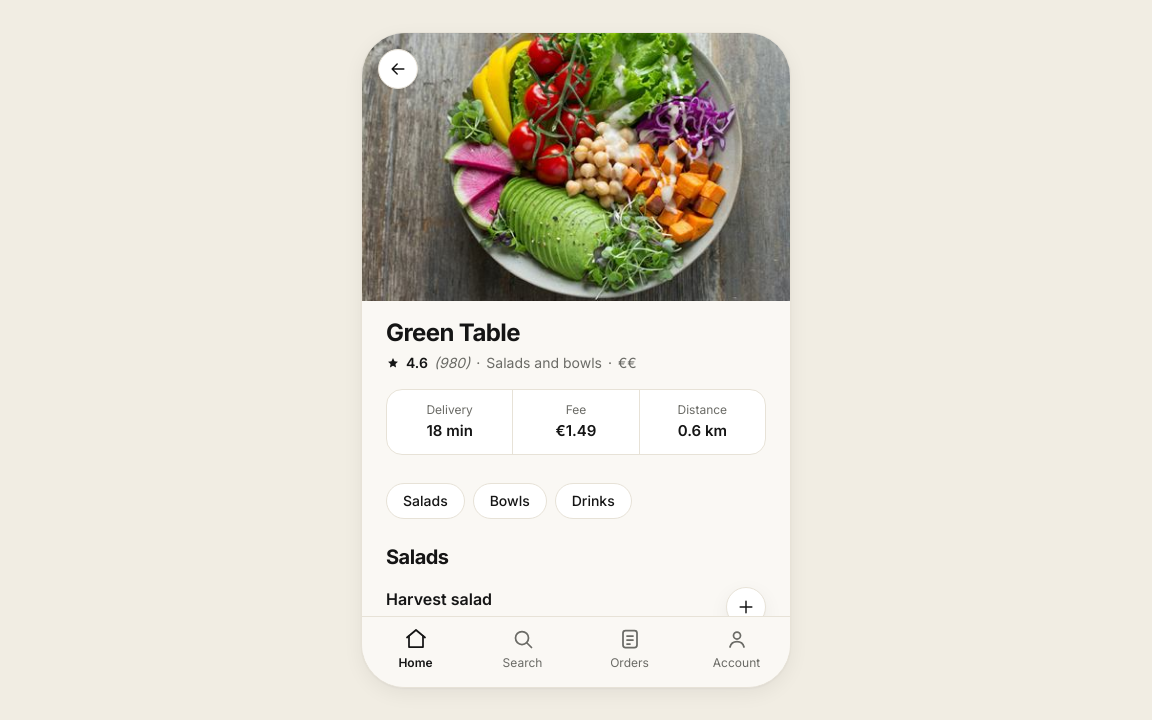
Test: Restaurant page › keeps the current cart when the user declines
The image size is (1152, 720).
Earlier steps of the test are not shown.
Expected: the heading "Green Table" is shown, [386, 318, 520, 346]
Click the button named "Add Harvest salad" at (746, 607), box [726, 587, 766, 627]
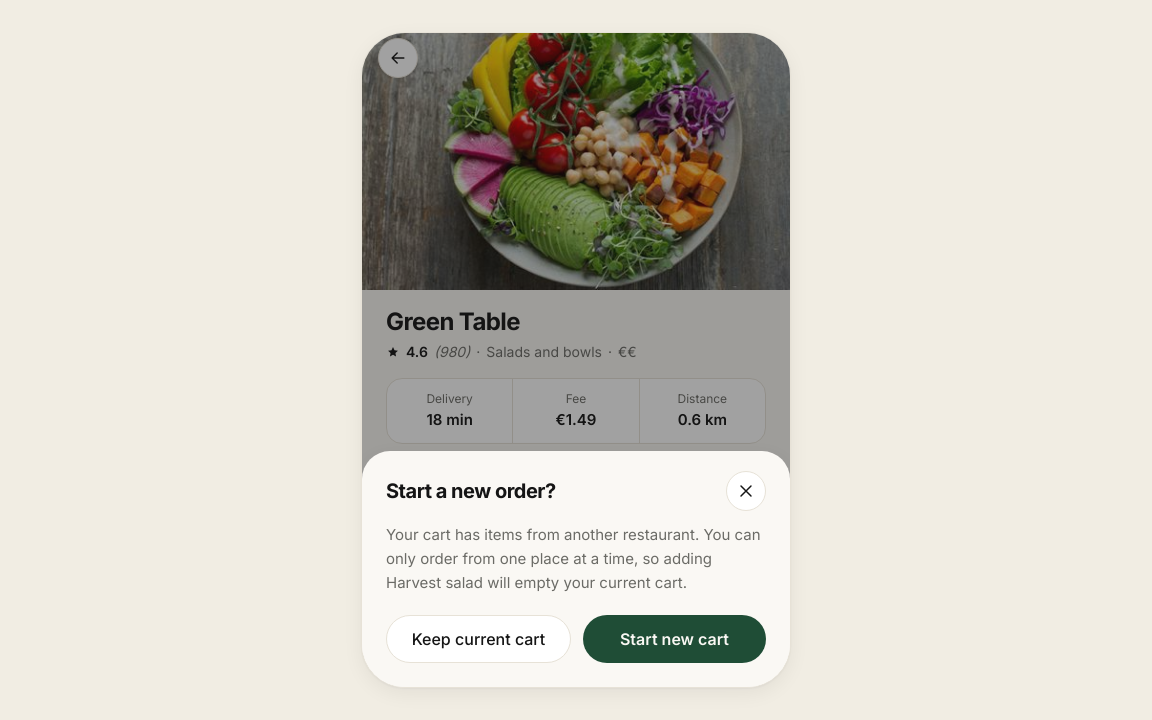
Click the button "Keep current cart" at (478, 639), box [386, 615, 571, 663]
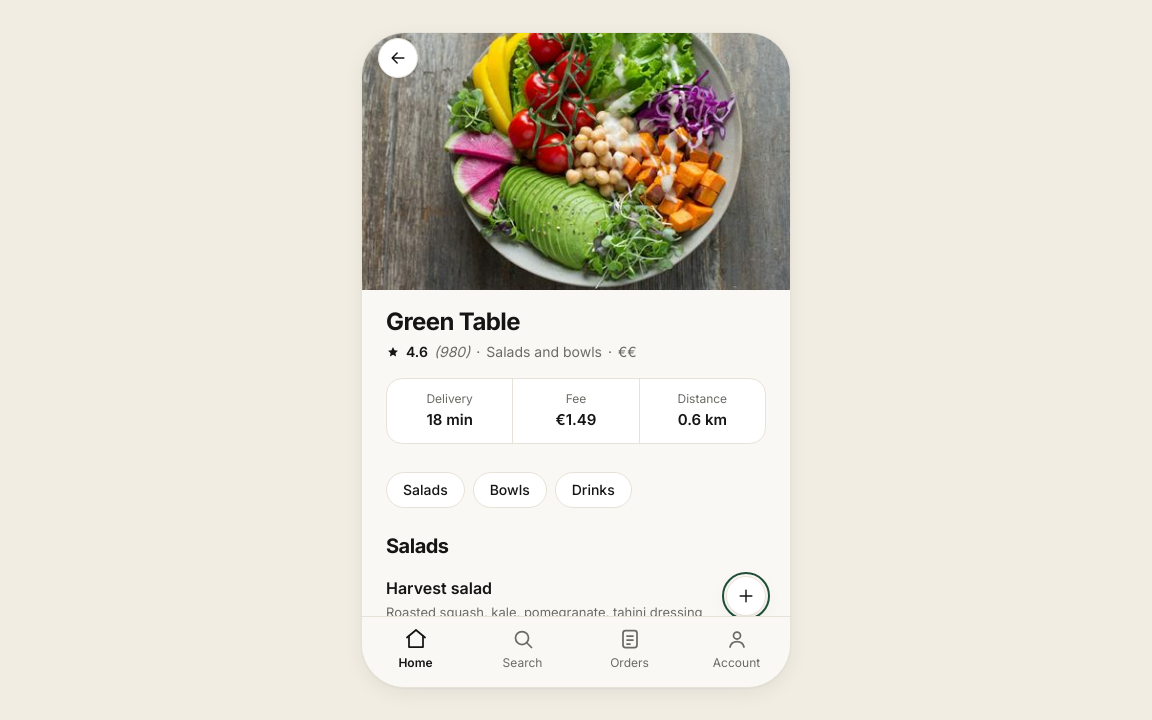
Expected: the button named "Add Harvest salad" is shown, [726, 576, 766, 616]
Expected: the dialog is gone
